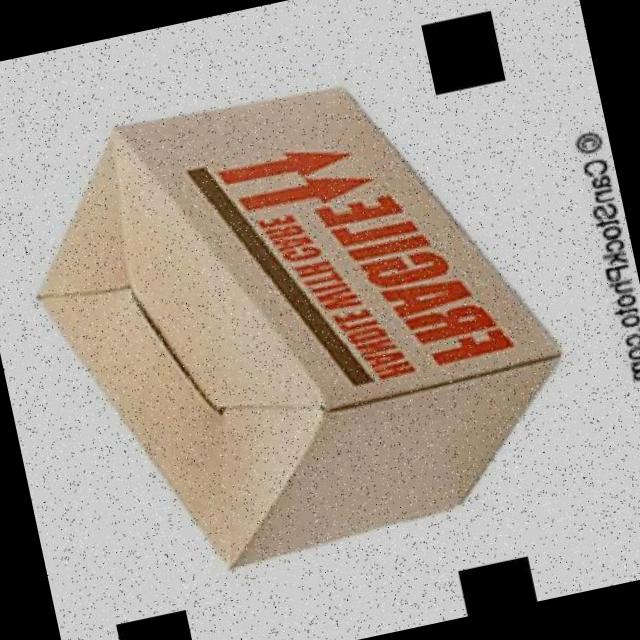box: (1, 39, 596, 604)
